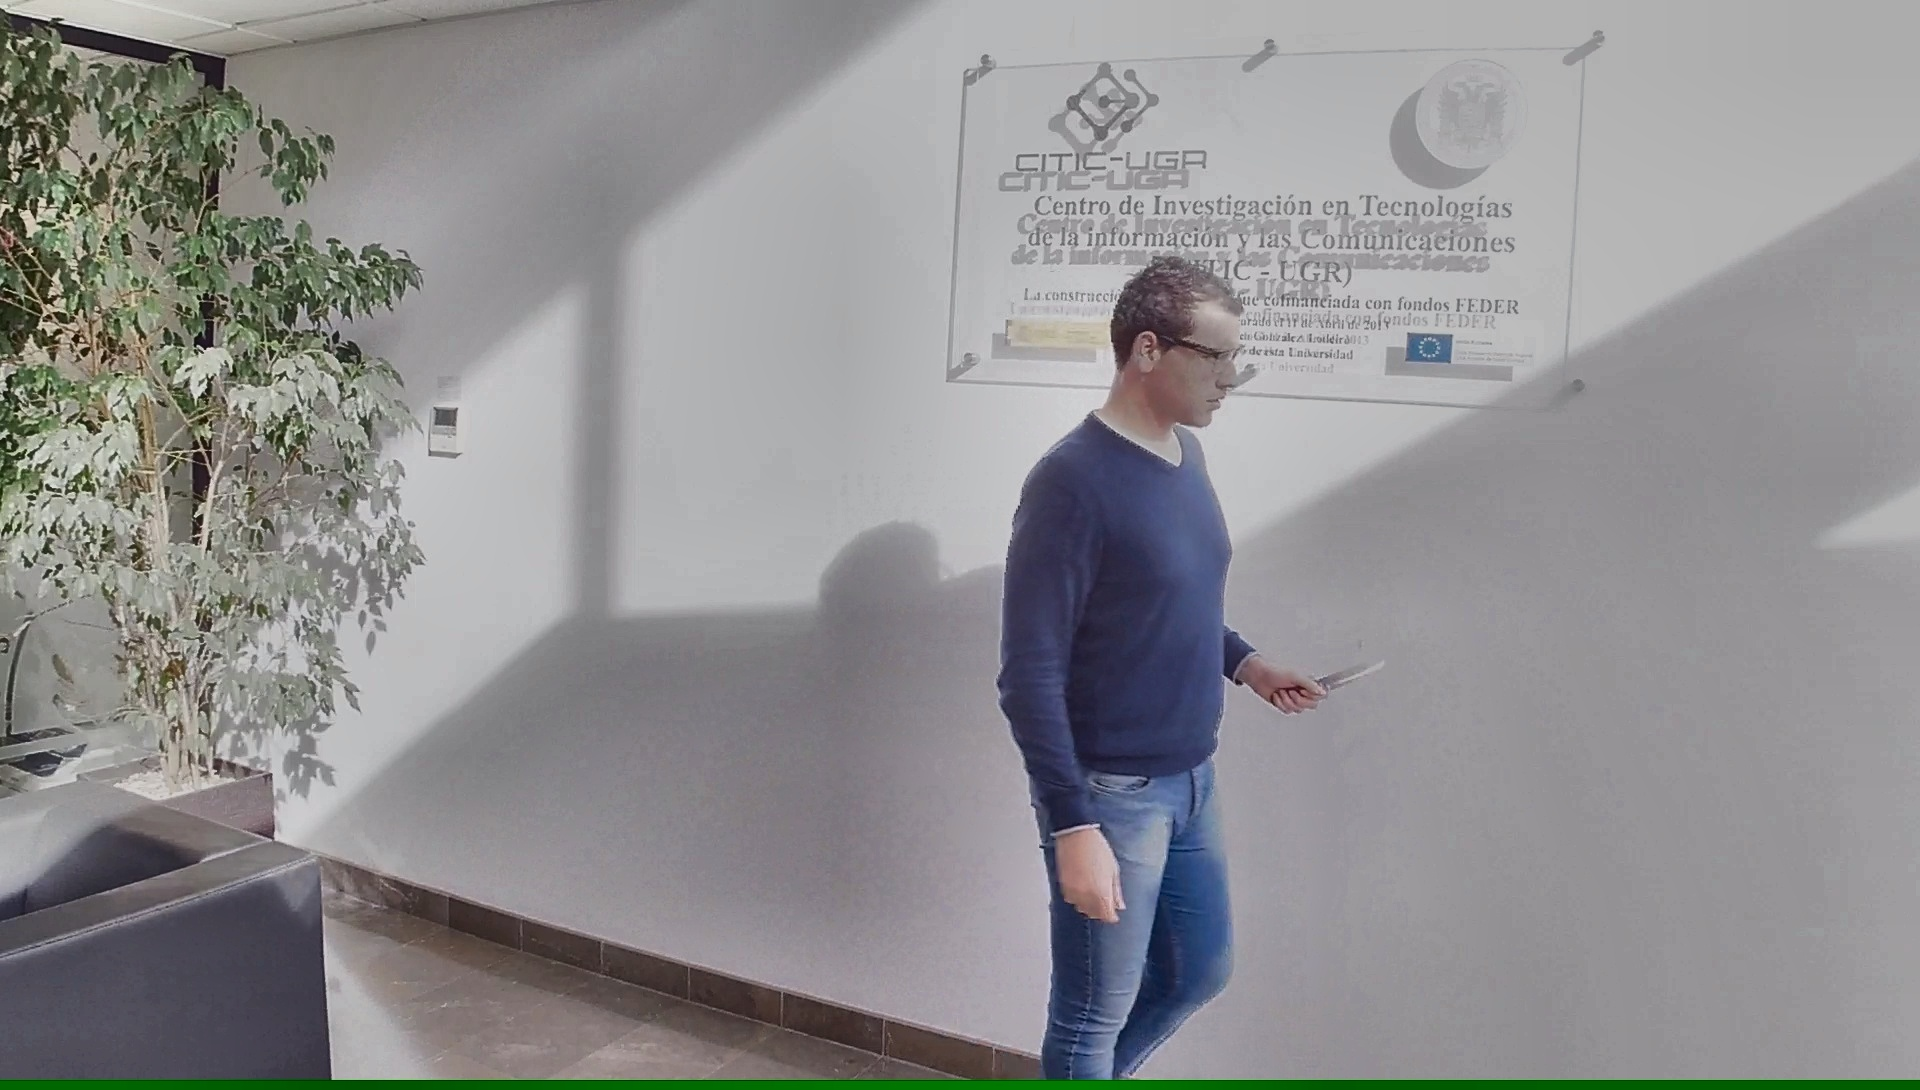knife: (1267, 646, 1399, 713)
